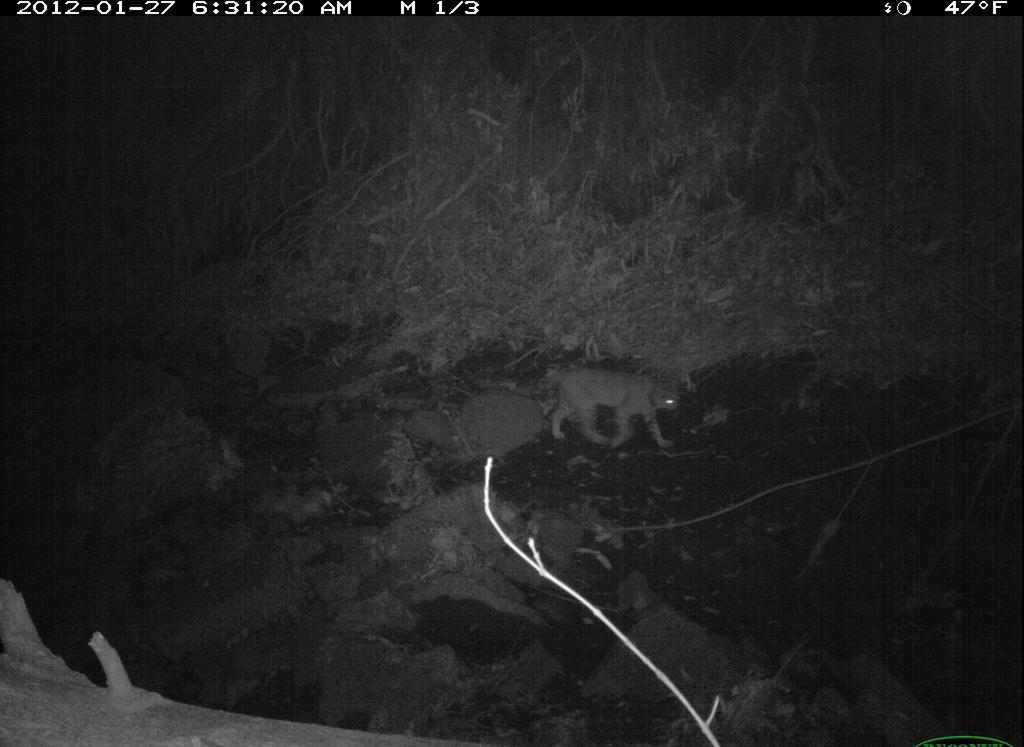bobcat: (532, 344, 713, 463)
